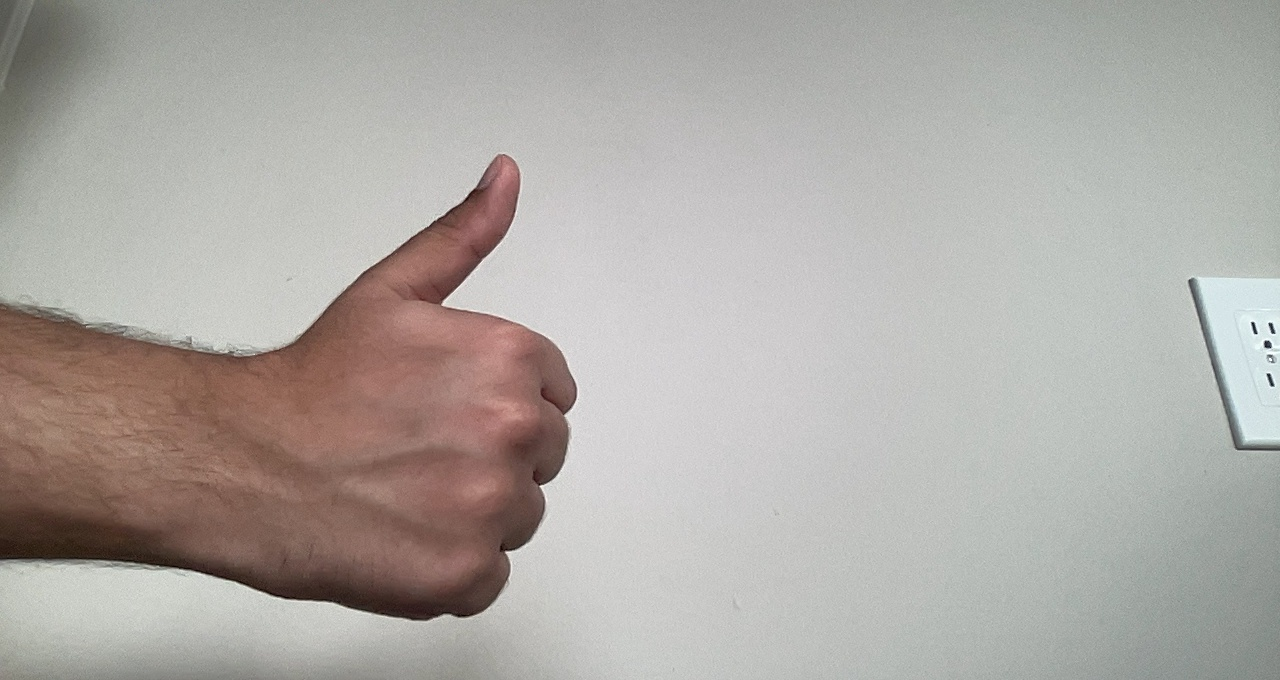thumbsup: (304, 146, 580, 635)
